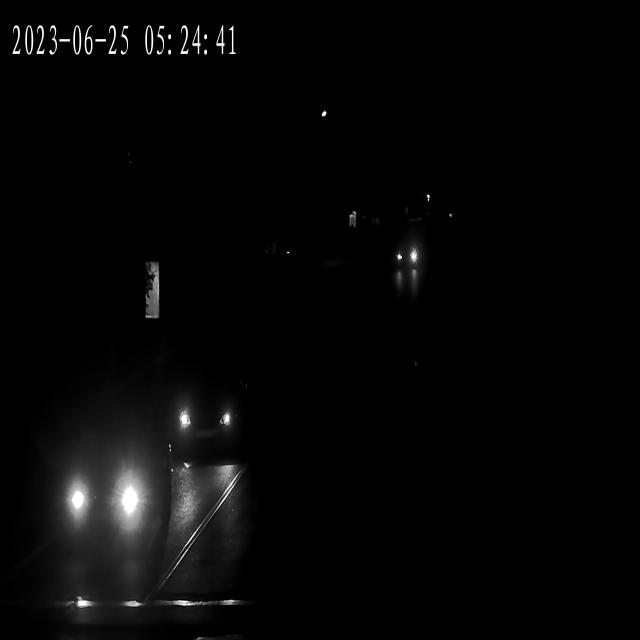Car: (45, 406, 173, 592), (170, 355, 257, 464), (395, 233, 422, 283)
